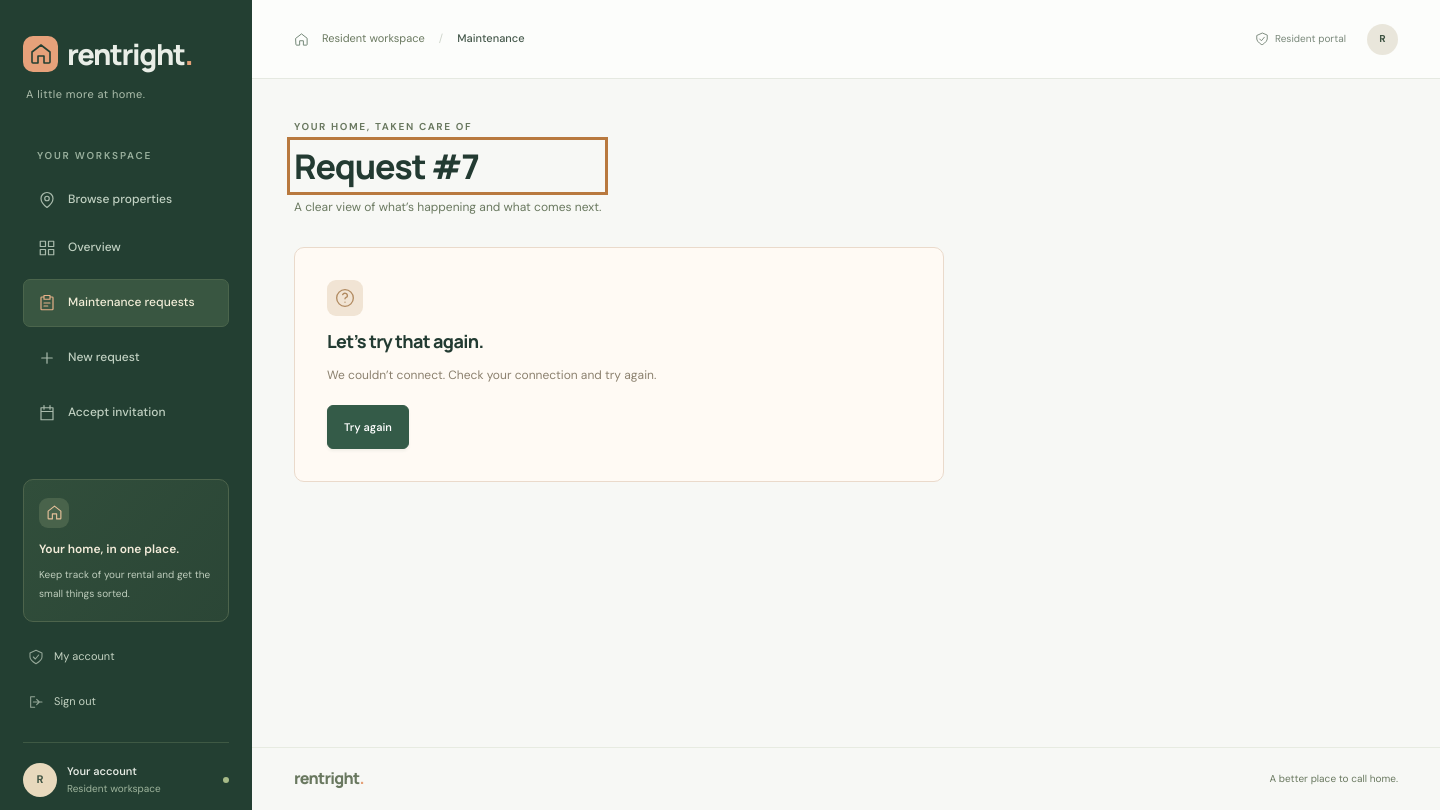
retries an offline read
The image size is (1440, 810).
Click the button "Try again". click: (368, 427)
box: [327, 405, 409, 449]
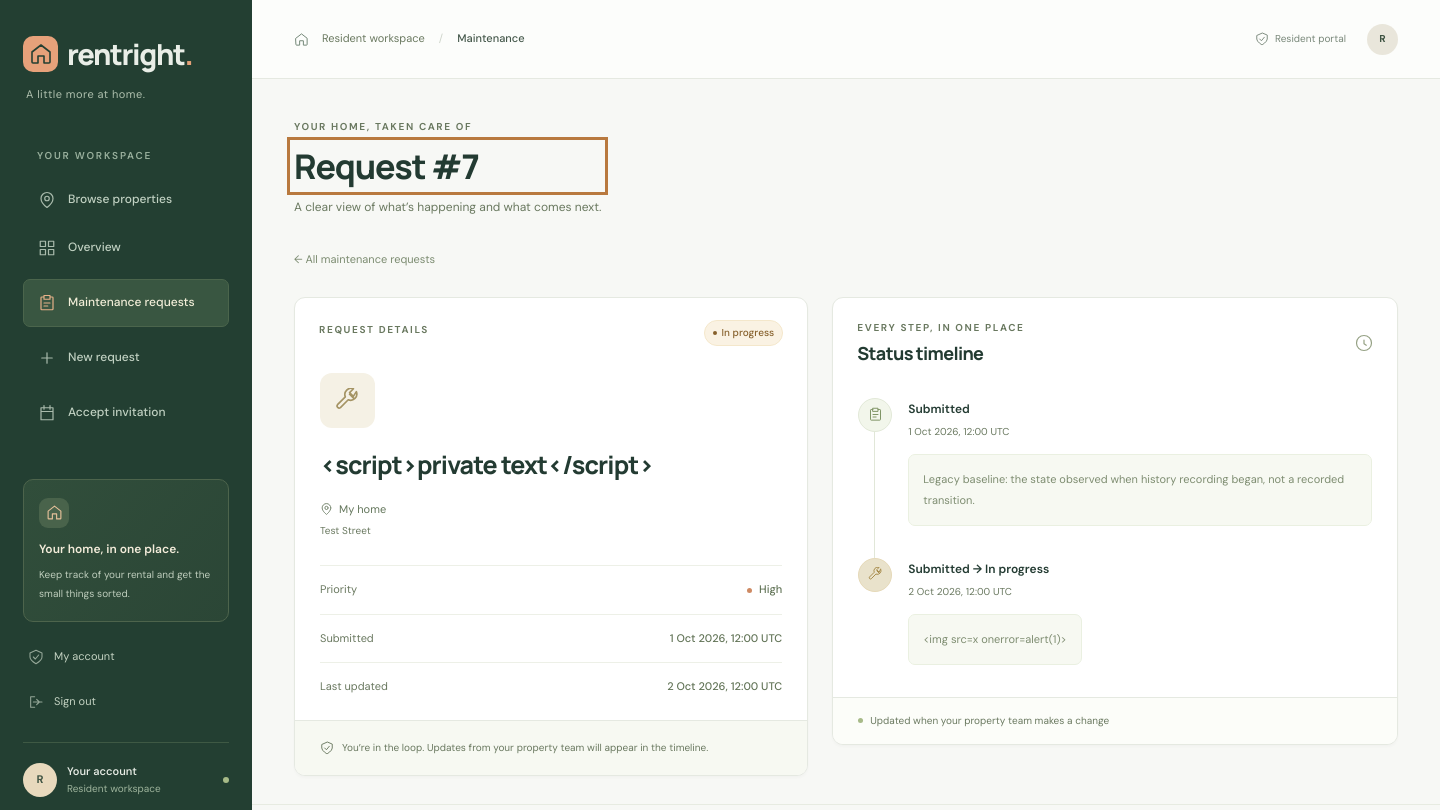
Expected: the heading "<script>private text</script>" is shown, [320, 447, 654, 482]
